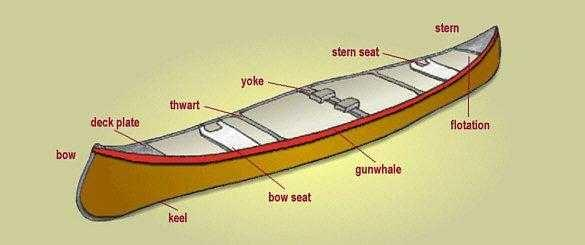kayak: (79, 23, 503, 223)
